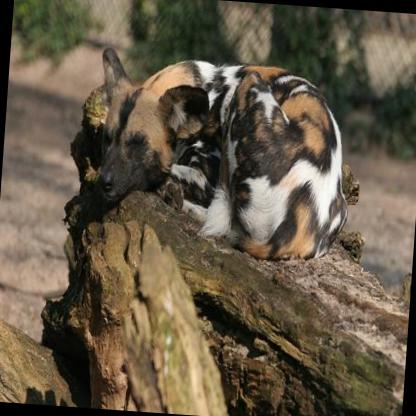African_hunting_dog: (87, 44, 355, 264)
